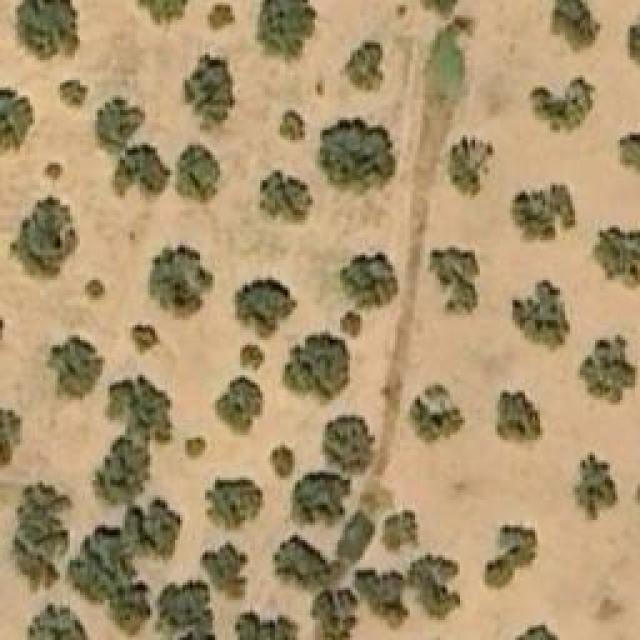Tree: (73, 528, 148, 628), (98, 98, 171, 198), (13, 480, 73, 590), (317, 117, 395, 195), (10, 193, 78, 278), (145, 243, 213, 318), (285, 333, 353, 403), (105, 377, 175, 445), (512, 278, 570, 353), (255, 0, 318, 65), (233, 275, 296, 340), (15, 0, 83, 60), (90, 432, 150, 500), (508, 185, 578, 243), (47, 335, 105, 403), (183, 55, 233, 133), (578, 338, 638, 403), (530, 77, 595, 135), (585, 225, 640, 293), (483, 522, 538, 590), (428, 247, 481, 315), (158, 580, 218, 640), (292, 470, 352, 529), (407, 384, 464, 446), (123, 498, 178, 561), (213, 375, 266, 440), (205, 475, 263, 533), (260, 160, 313, 223), (273, 535, 338, 585), (340, 250, 398, 305), (573, 452, 618, 520), (495, 390, 543, 453), (323, 412, 373, 470), (175, 145, 223, 205), (447, 135, 495, 195), (549, 0, 602, 52), (202, 540, 248, 598), (415, 560, 463, 613), (28, 602, 91, 640), (0, 87, 35, 155), (355, 570, 403, 618), (343, 40, 386, 93), (313, 590, 356, 640), (235, 612, 300, 640), (380, 510, 418, 555), (0, 407, 22, 464), (138, 0, 188, 25), (505, 622, 573, 640), (130, 325, 163, 358), (617, 130, 640, 175), (208, 3, 238, 36), (270, 442, 295, 480), (240, 343, 268, 373), (280, 110, 305, 143), (340, 310, 368, 338), (60, 80, 88, 105), (185, 438, 208, 458), (43, 162, 66, 180), (85, 280, 105, 300)
